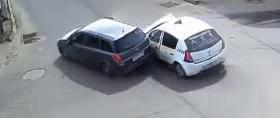car-accident: (60, 12, 231, 80)
